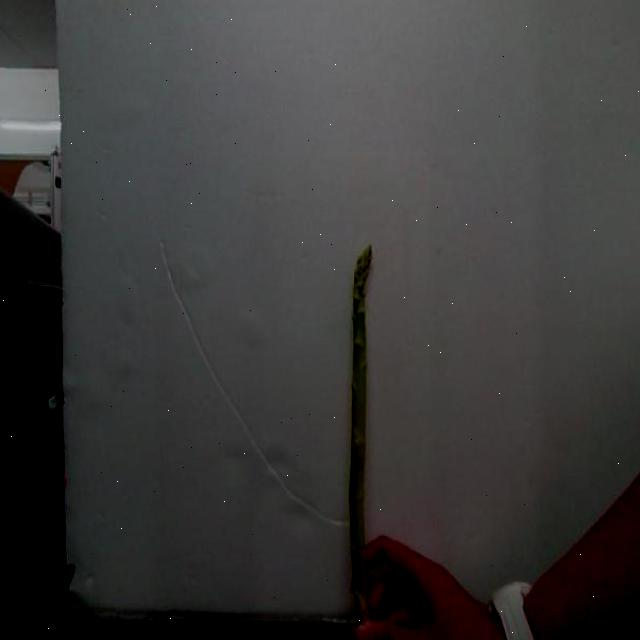aspargus: (347, 248, 371, 626)
